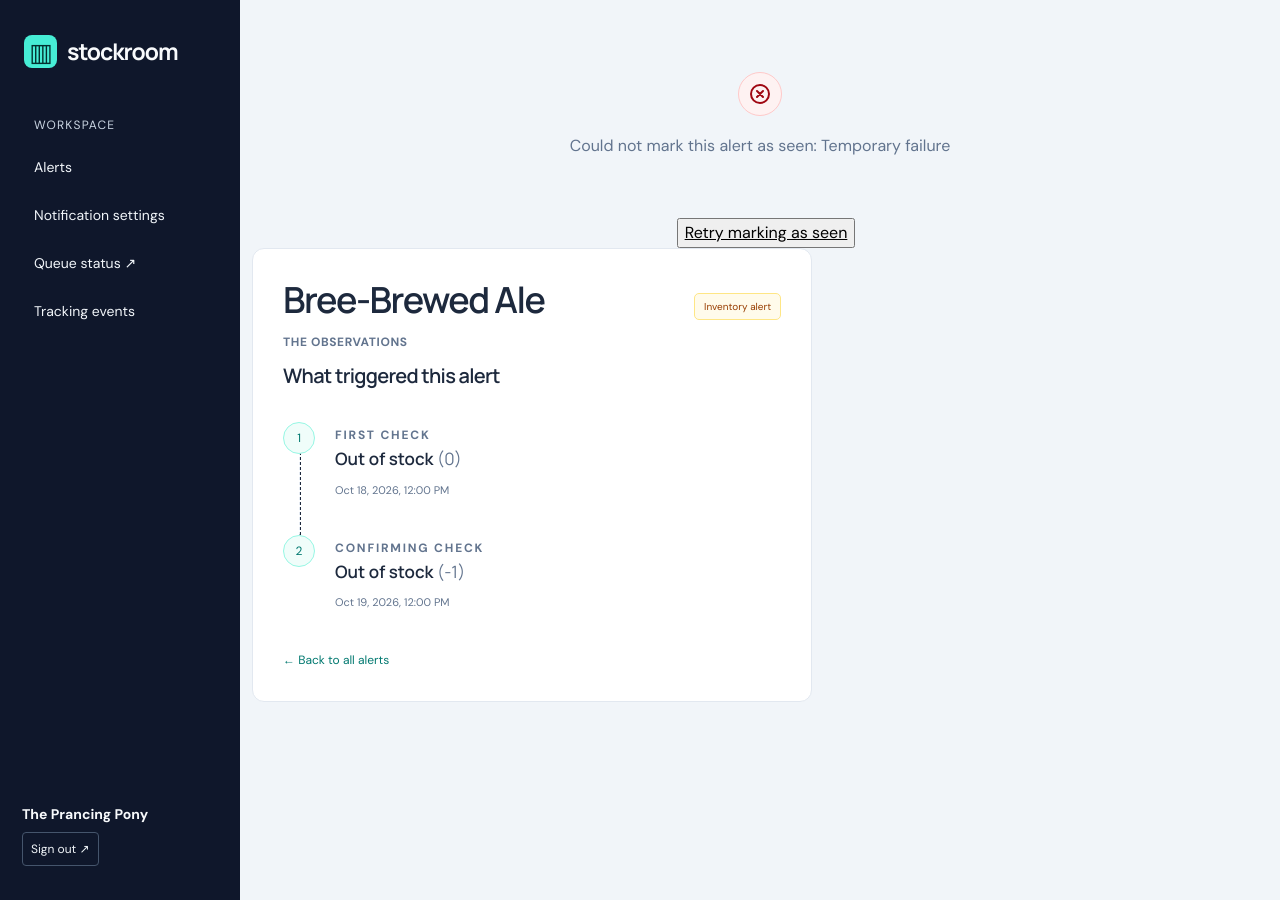
Test: brand alert workspace › shows a retry when marking a detail as seen fails
Expected: the message shows "Could not mark this alert as seen", [570, 135, 950, 156]
Expected: the heading "What triggered this alert" is shown, [283, 362, 500, 389]
Click the button "Retry marking as seen": click(766, 233) [677, 218, 855, 248]
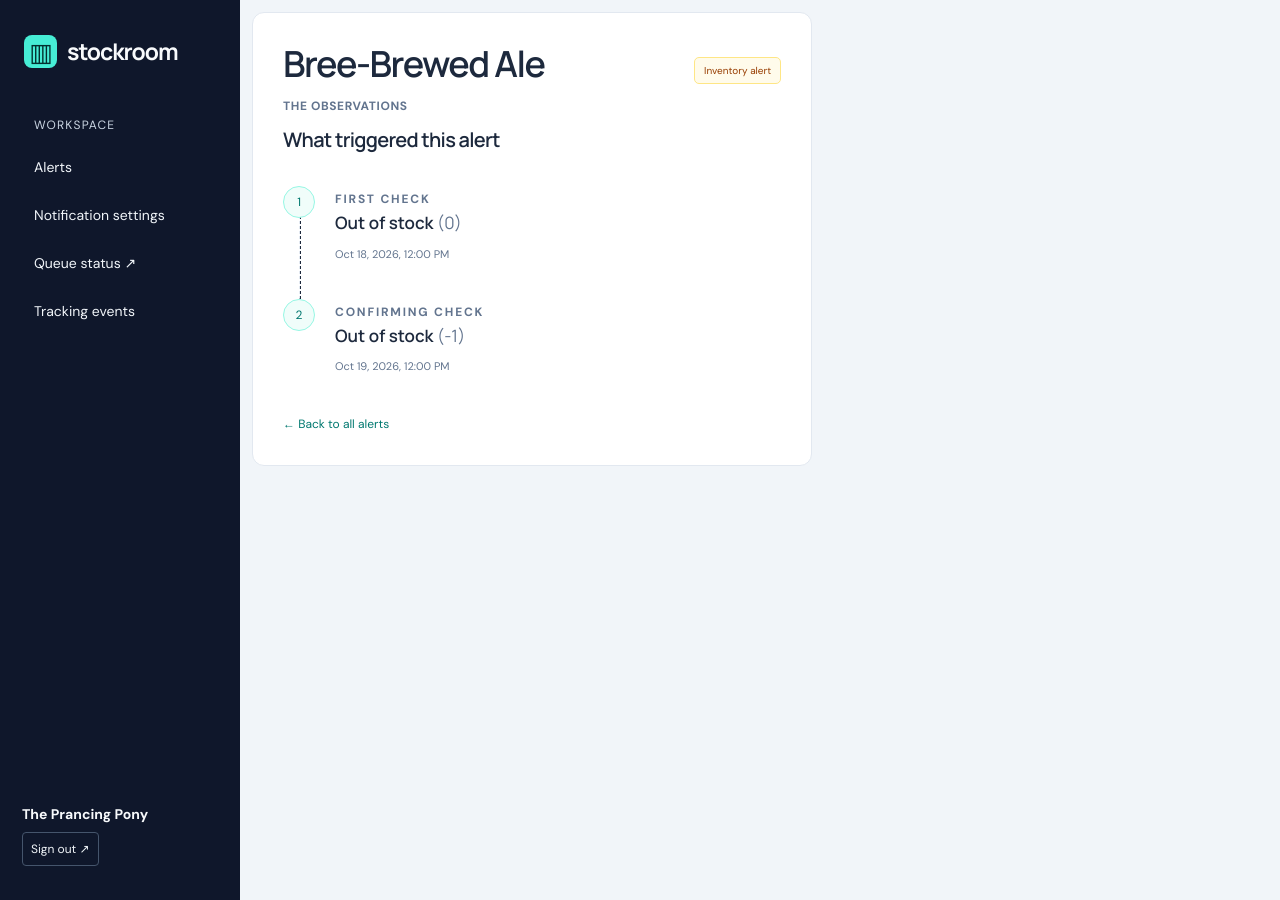
Expected: the message "Could not mark this alert as seen: Temporary failure" is gone
